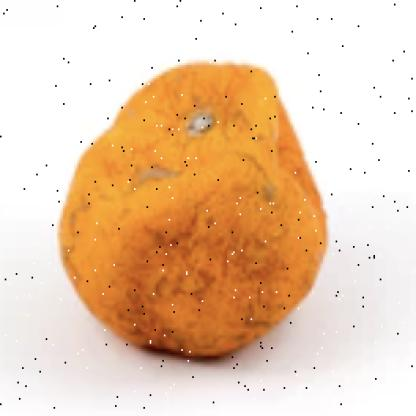rotten: (62, 62, 329, 367)
